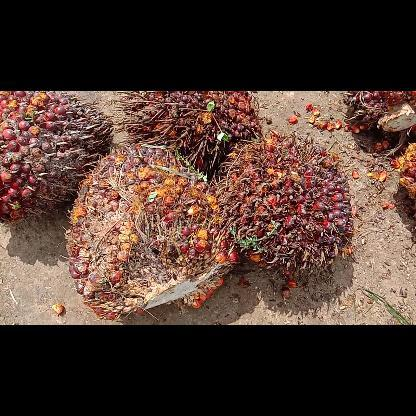TBS masak: (65, 143, 238, 319), (216, 129, 354, 275), (0, 90, 112, 222), (113, 91, 262, 169)
